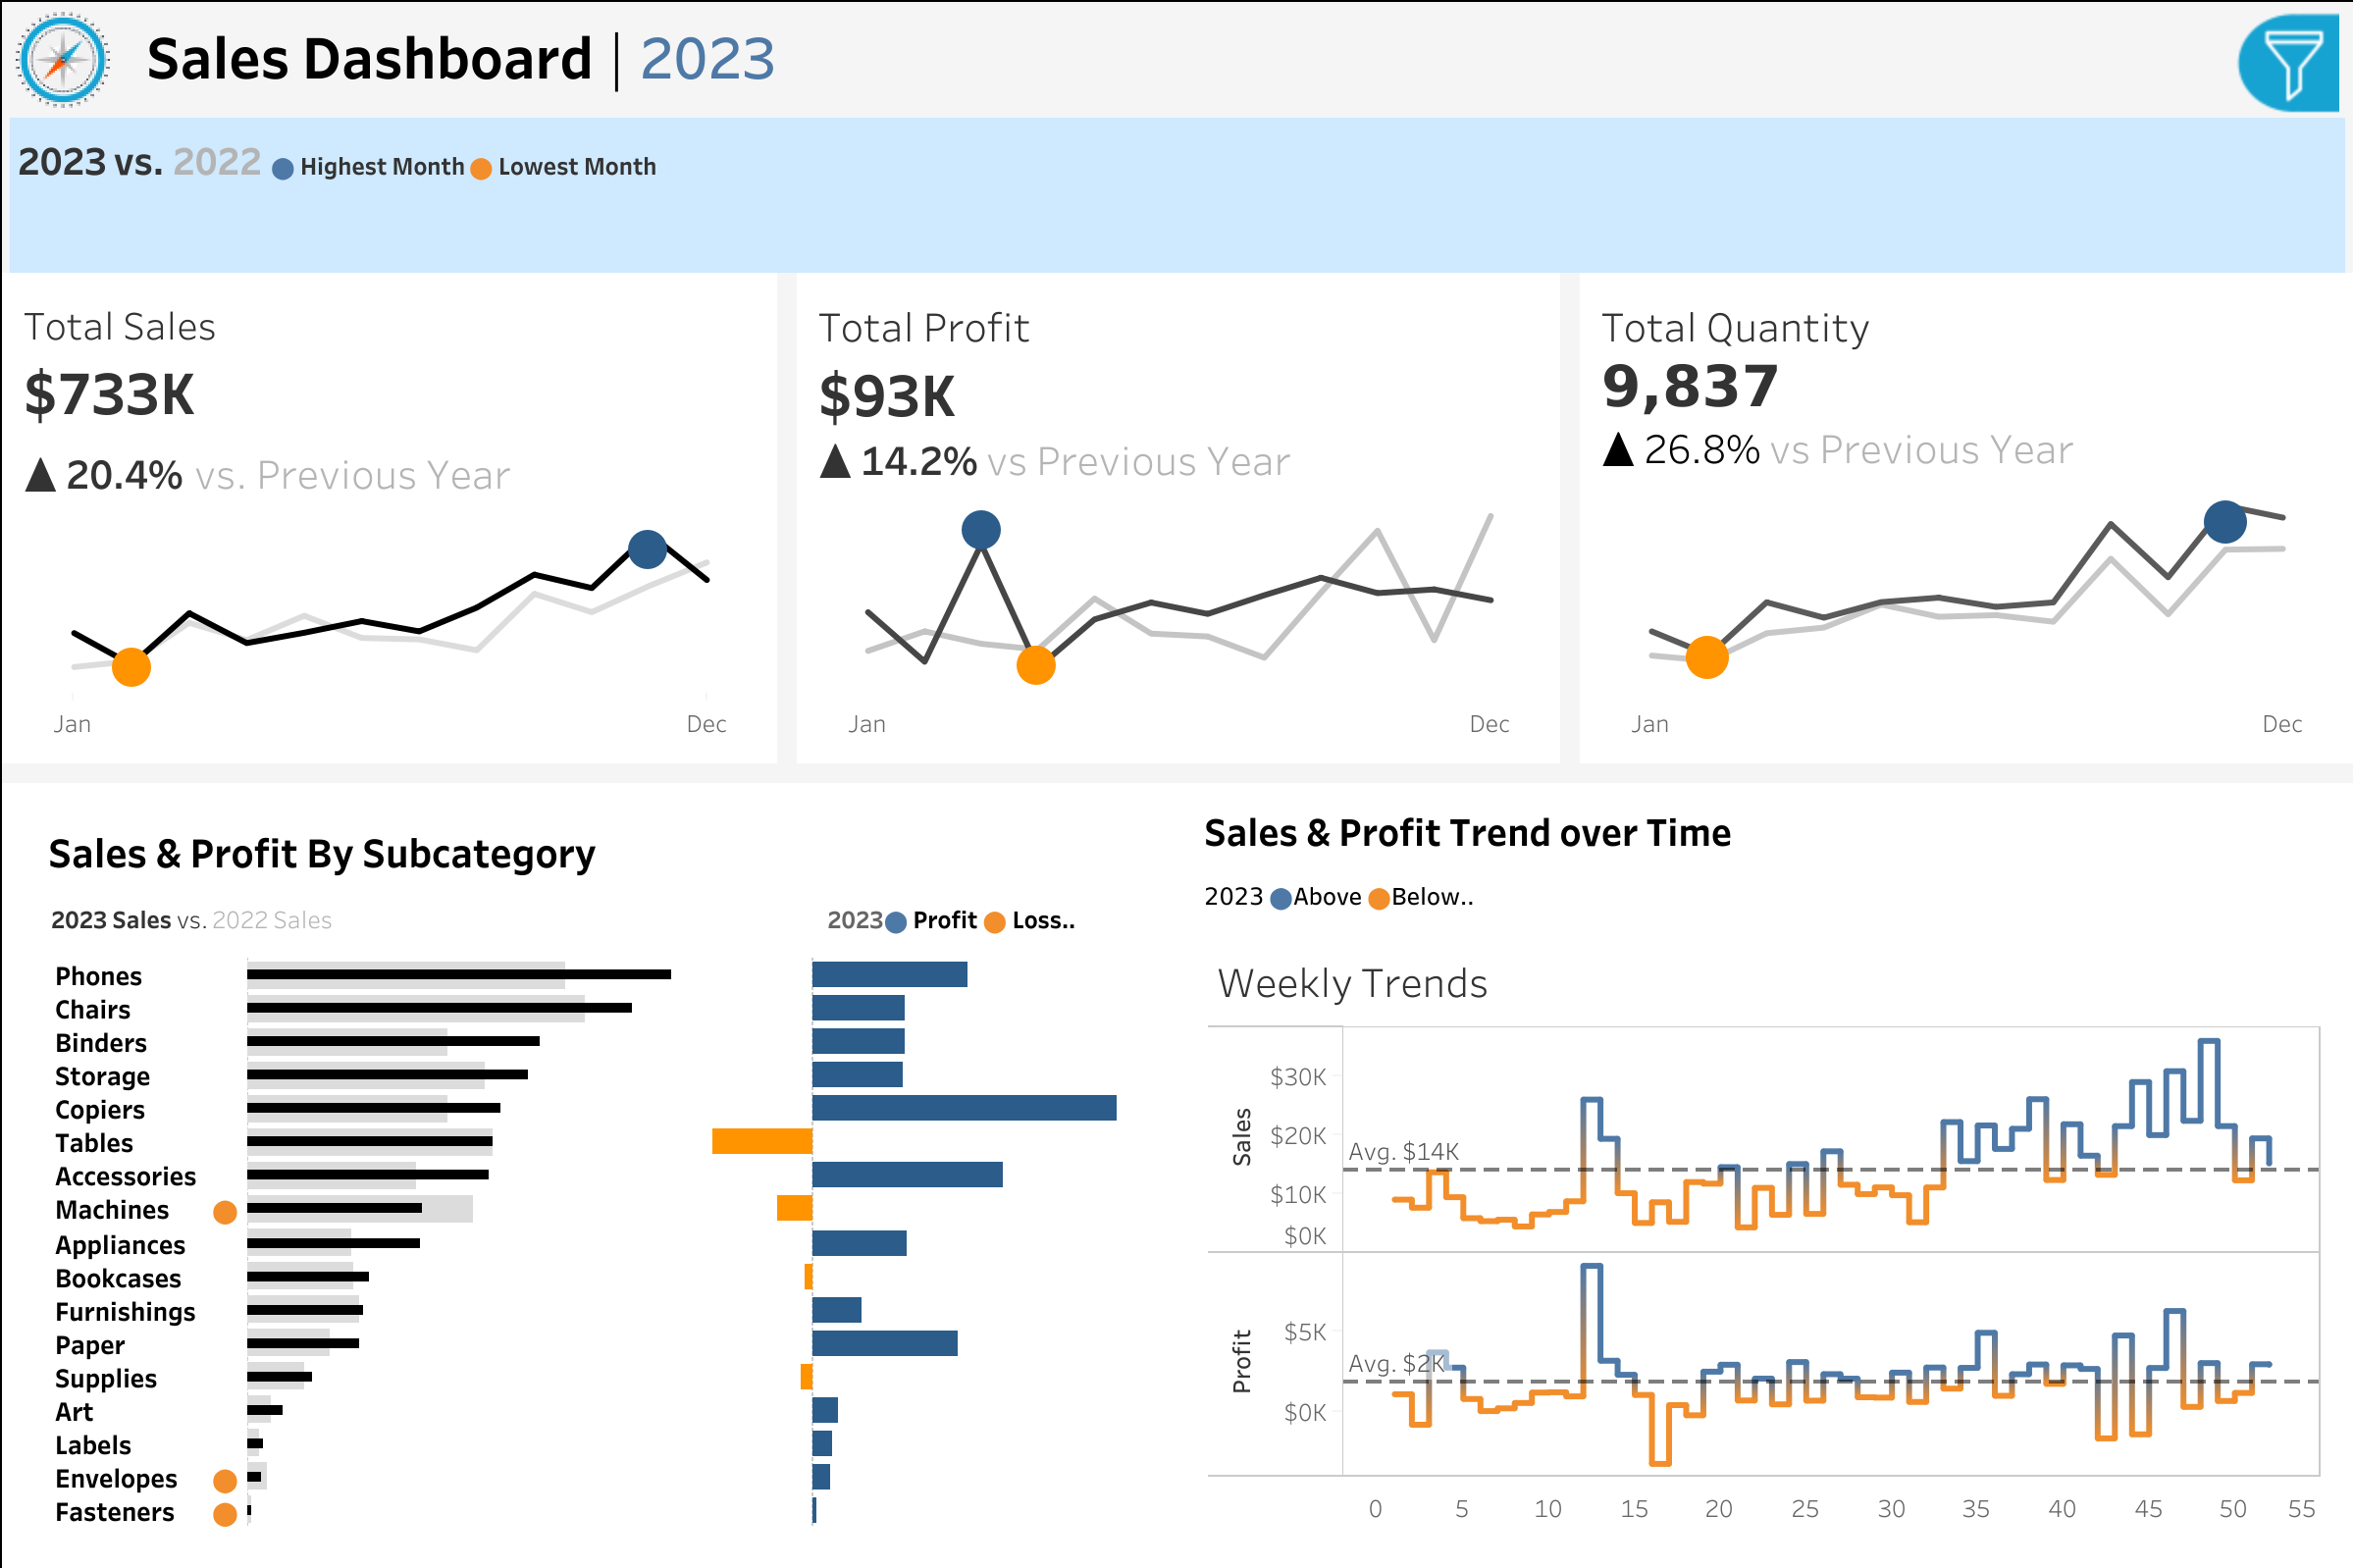

The dashboard page shown, as its layout file describes it:
{"tool":"tableau","page":{"name":"Sales Dashboard","canvas":[1200,800],"ordinal":0},"visuals":[{"type":"image","param":"Image/Icon - Logo.png","box":[1,1,67,55]},{"type":"text","box":[68,1,598,55]},{"type":"dashboard-object","box":[1137,6,57,53]},{"type":"worksheet","title":"Legend of KPI","mark":"Text","box":[1,56,1198,83]},{"type":"blank","box":[959,73,226,46]},{"type":"text","box":[959,119,226,30]},{"type":"worksheet","title":"KPI Sales","mark":"Automatic","rows":["Calculation_3048655541378940933"],"cols":["Order Date"],"box":[1,139,400,260]},{"type":"worksheet","title":"KPI Profit","mark":"Automatic","rows":["Min/Max Sales (copy)_3048655541394993171"],"cols":["Order Date"],"box":[401,139,399,260]},{"type":"worksheet","title":"KPI Quantity","mark":"Line","rows":["Min/Max Sales (copy)_3048655541402161177"],"cols":["Order Date"],"box":[800,139,399,260]},{"type":"parameter","param":"[Parameters].[Parameter 1]","box":[959,149,226,54]},{"type":"blank","box":[959,203,226,37]},{"type":"text","box":[959,240,226,32]},{"type":"filter","title":"KPI Sales","param":"[federated.1aiyp240w4o900149vptb1r5if3q].[none:Category:nk]","box":[959,272,226,52]},{"type":"filter","title":"KPI Sales","param":"[federated.1aiyp240w4o900149vptb1r5if3q].[none:Sub-Category:nk]","box":[959,324,226,52]},{"type":"text","box":[959,376,226,26]},{"type":"filter","title":"KPI Sales","param":"[federated.1aiyp240w4o900149vptb1r5if3q].[none:Region:nk]","box":[959,402,226,52]},{"type":"text","box":[607,406,585,33.6]},{"type":"text","box":[18,416,565,36]},{"type":"text","box":[607,439.6,585,30.9]},{"type":"worksheet","title":"Legend of sub","mark":"Automatic","box":[18,452,397,32]},{"type":"text","box":[415,452,168,32]},{"type":"filter","title":"KPI Sales","param":"[federated.1aiyp240w4o900149vptb1r5if3q].[none:State:nk]","box":[959,454,226,52]},{"type":"worksheet","title":"Weekly Trends","mark":"Automatic","rows":["Calculation_3048655541374033920","Calculation_3048655541390520334"],"cols":["Order Date"],"box":[612,475.5,575,311.5]},{"type":"worksheet","title":"Subcategory Comparison","mark":"Bar","rows":["Sub-Category","Calculation_48624870913449984"],"cols":["CY Sales (copy)_3048655541374332930","Calculation_3048655541374033920","Calculation_3048655541390520334"],"box":[18,484,565,298]},{"type":"filter","title":"KPI Sales","param":"[federated.1aiyp240w4o900149vptb1r5if3q].[none:City:nk]","box":[959,506,226,52]}]}

Visuals, with their boxes in screenshot pixels (x1, y1, x2, y2), scaled from the page's 1200x800 canvas onto the 2353x1568 screenshot:
image: pyautogui.locateOnScreen(2, 2, 133, 110)
text: pyautogui.locateOnScreen(133, 2, 1306, 110)
dashboard-object: pyautogui.locateOnScreen(2229, 12, 2341, 116)
"Legend of KPI" worksheet (Text marks): pyautogui.locateOnScreen(2, 110, 2351, 273)
blank: pyautogui.locateOnScreen(1880, 143, 2324, 234)
text: pyautogui.locateOnScreen(1880, 234, 2324, 292)
"KPI Sales" worksheet: pyautogui.locateOnScreen(2, 273, 786, 782)
"KPI Profit" worksheet: pyautogui.locateOnScreen(786, 273, 1569, 782)
"KPI Quantity" worksheet (Line marks): pyautogui.locateOnScreen(1569, 273, 2351, 782)
parameter: pyautogui.locateOnScreen(1880, 292, 2324, 397)
blank: pyautogui.locateOnScreen(1880, 397, 2324, 470)
text: pyautogui.locateOnScreen(1880, 470, 2324, 533)
"KPI Sales" filter: pyautogui.locateOnScreen(1880, 533, 2324, 635)
"KPI Sales" filter: pyautogui.locateOnScreen(1880, 635, 2324, 737)
text: pyautogui.locateOnScreen(1880, 737, 2324, 788)
"KPI Sales" filter: pyautogui.locateOnScreen(1880, 788, 2324, 890)
text: pyautogui.locateOnScreen(1190, 796, 2337, 862)
text: pyautogui.locateOnScreen(35, 815, 1143, 886)
text: pyautogui.locateOnScreen(1190, 862, 2337, 922)
"Legend of sub" worksheet: pyautogui.locateOnScreen(35, 886, 813, 949)
text: pyautogui.locateOnScreen(813, 886, 1143, 949)
"KPI Sales" filter: pyautogui.locateOnScreen(1880, 890, 2324, 992)
"Weekly Trends" worksheet: pyautogui.locateOnScreen(1200, 932, 2327, 1542)
"Subcategory Comparison" worksheet (Bar marks): pyautogui.locateOnScreen(35, 949, 1143, 1533)
"KPI Sales" filter: pyautogui.locateOnScreen(1880, 992, 2324, 1094)
